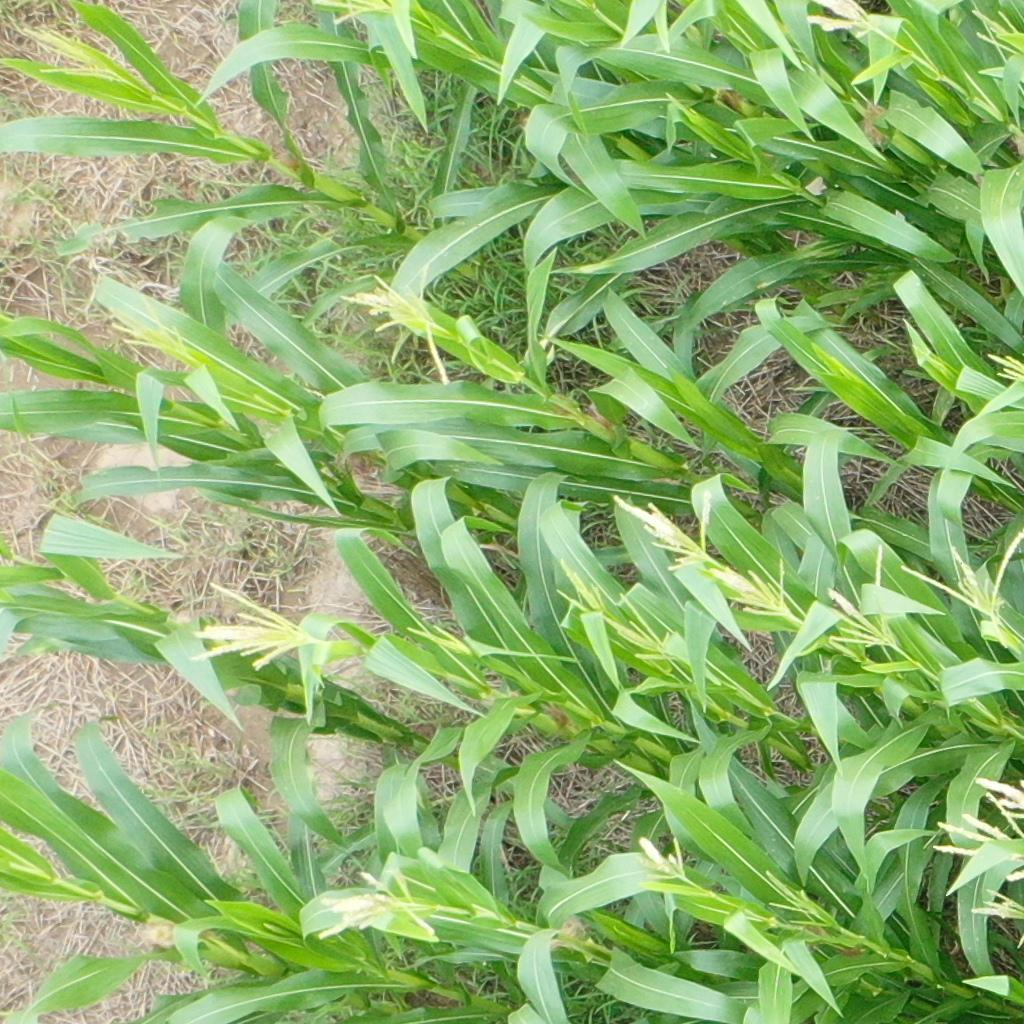Tassel: (900, 533, 1024, 652), (337, 274, 463, 386), (189, 581, 318, 672), (318, 869, 442, 943), (609, 486, 714, 571), (929, 789, 1024, 882), (823, 542, 898, 654), (23, 22, 127, 85), (107, 293, 193, 359), (700, 558, 791, 614), (617, 591, 680, 668), (555, 558, 612, 623), (766, 870, 831, 923), (405, 623, 479, 661), (807, 1, 881, 38), (970, 8, 1024, 57), (634, 837, 688, 882), (974, 775, 1024, 820), (310, 1, 396, 26), (968, 887, 1024, 924), (986, 349, 1024, 382)
